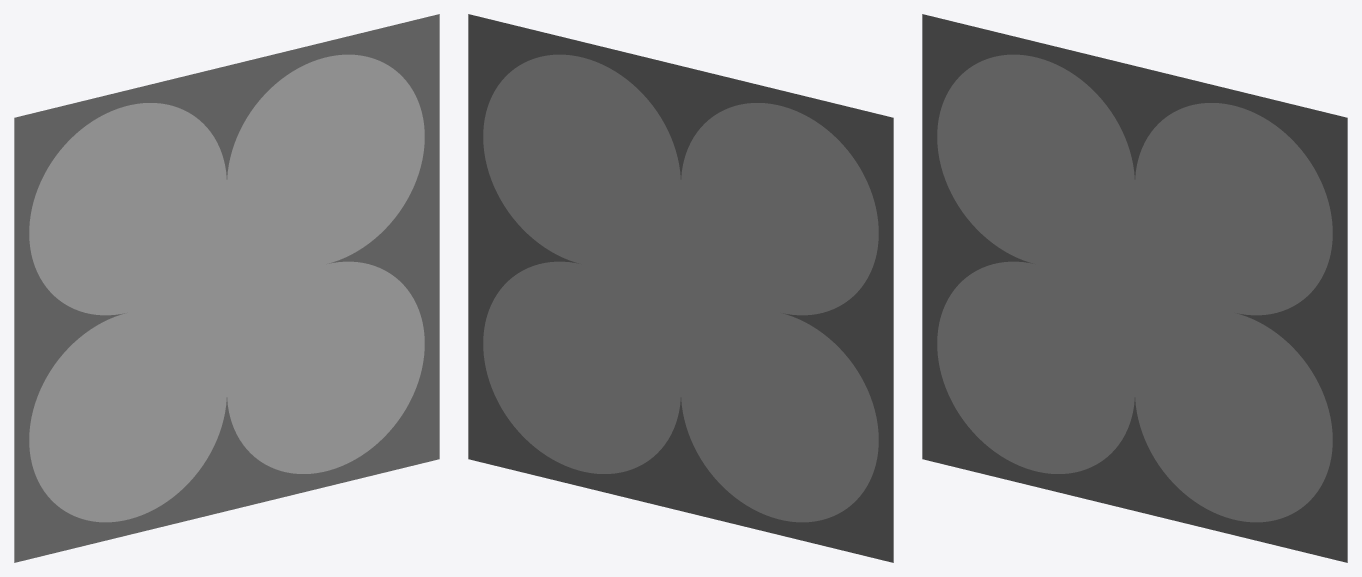
The model's file is clovers.gltf.
3 views of the same model, side by side, from view 1: azimuth 30°, elevation 25°; view 2: azimuth 150°, elevation 25°; view 3: azimuth 330°, elevation 25° (orthographic).
Visible parts, largest first — view 1: clovers; view 2: clovers; view 3: clovers.
Part boxes in pixels (x1=…): clovers: x1=14, y1=14, x2=439, y2=562; clovers: x1=468, y1=14, x2=893, y2=562; clovers: x1=922, y1=14, x2=1347, y2=562.
Size of the model in its own units: 610 by 610 by 0.
Materials: 2 (2 with a texture image).
